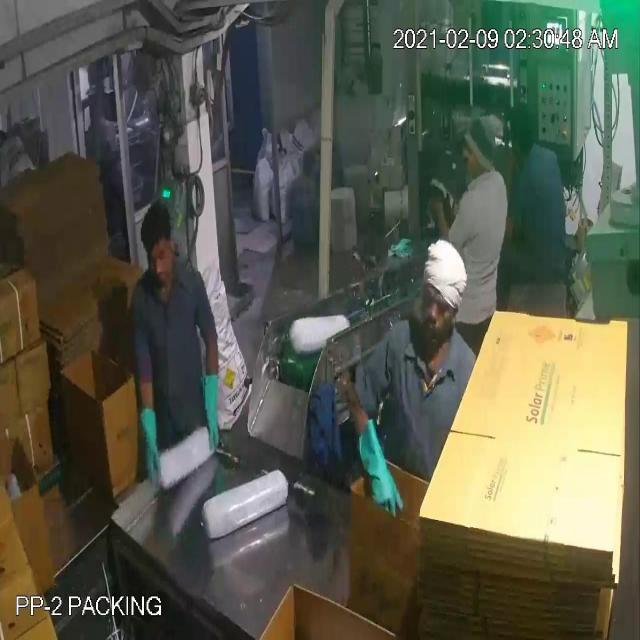Gloves: (36, 102, 379, 462)
